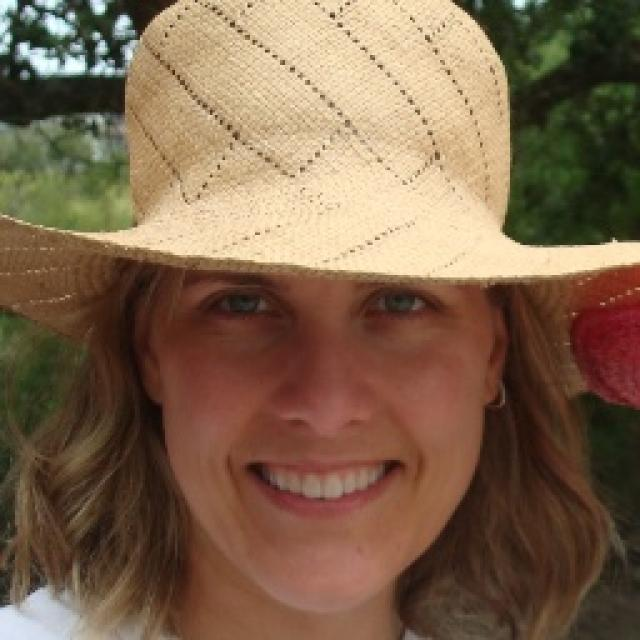earlobe: (140, 360, 169, 407), (481, 364, 504, 407)
eye: (359, 286, 436, 321), (202, 288, 277, 320)
nose: (272, 413, 378, 472)
wholeear: (132, 289, 169, 407), (481, 293, 509, 407)
